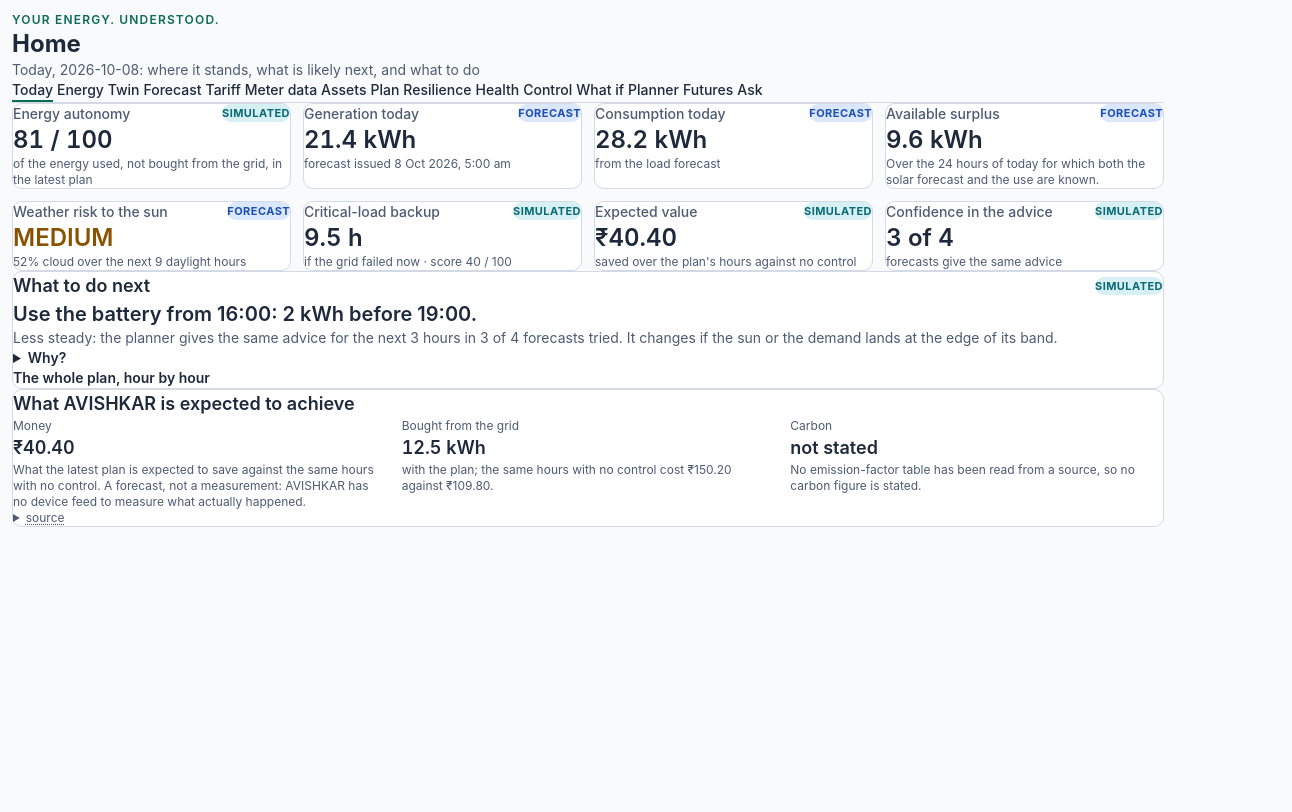
Test: TodayView › shows the recommendation with a Why? that opens the reasoning, the data used and the assumptions
The image size is (1292, 812).
Expected: the text "Use the battery from 16:00: 2 kWh before 19:00." is shown, [13, 302, 477, 326]
Expected: the text "Less steady: the planner gives the same advice" is shown, [13, 329, 1058, 346]
Click the heading "Why?": (47, 358) [28, 349, 66, 366]
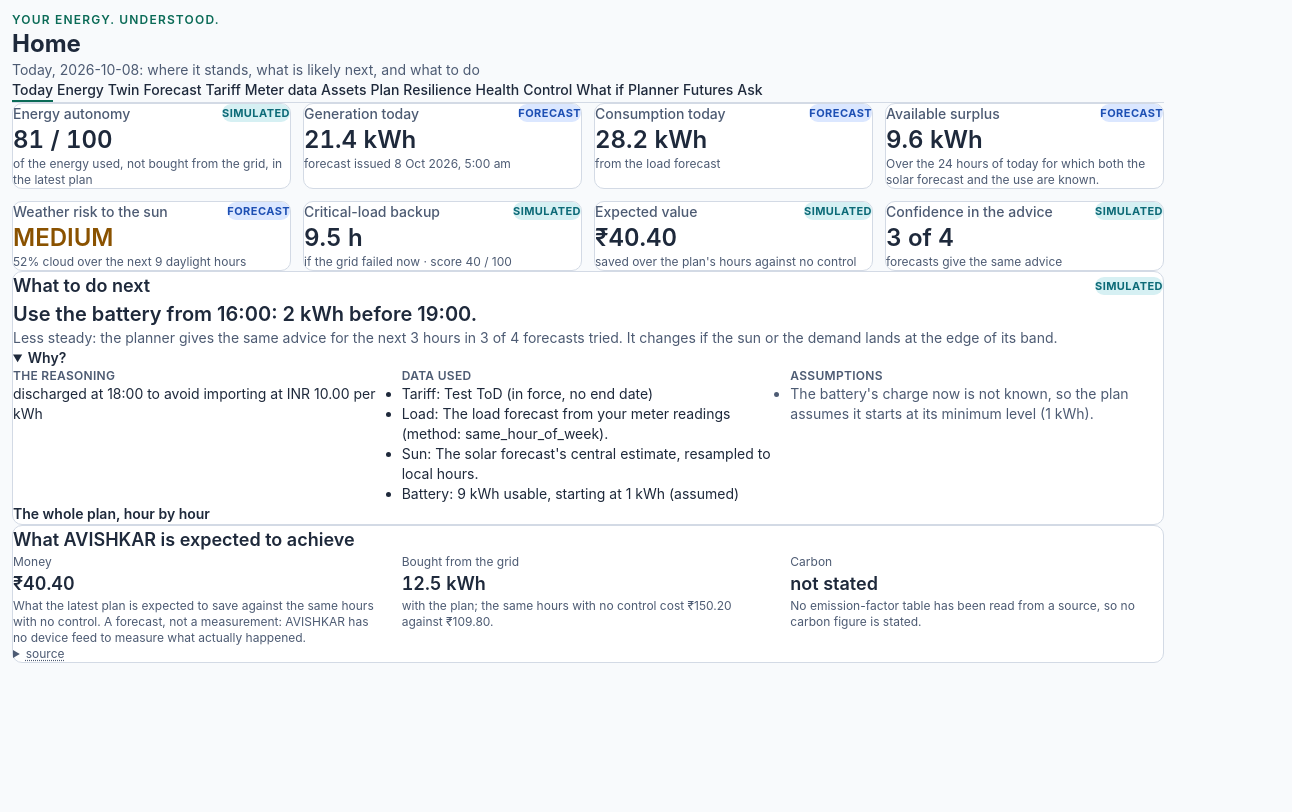
Expected: the list item "discharged at 18:00 to avoid importing at INR 10.00 per kWh" is shown, [13, 384, 386, 424]
Expected: the list item "Tariff: Test ToD (in force, no end date)" is shown, [402, 385, 653, 402]
Expected: the list item "The battery's charge now is not known" is shown, [790, 385, 1128, 422]
